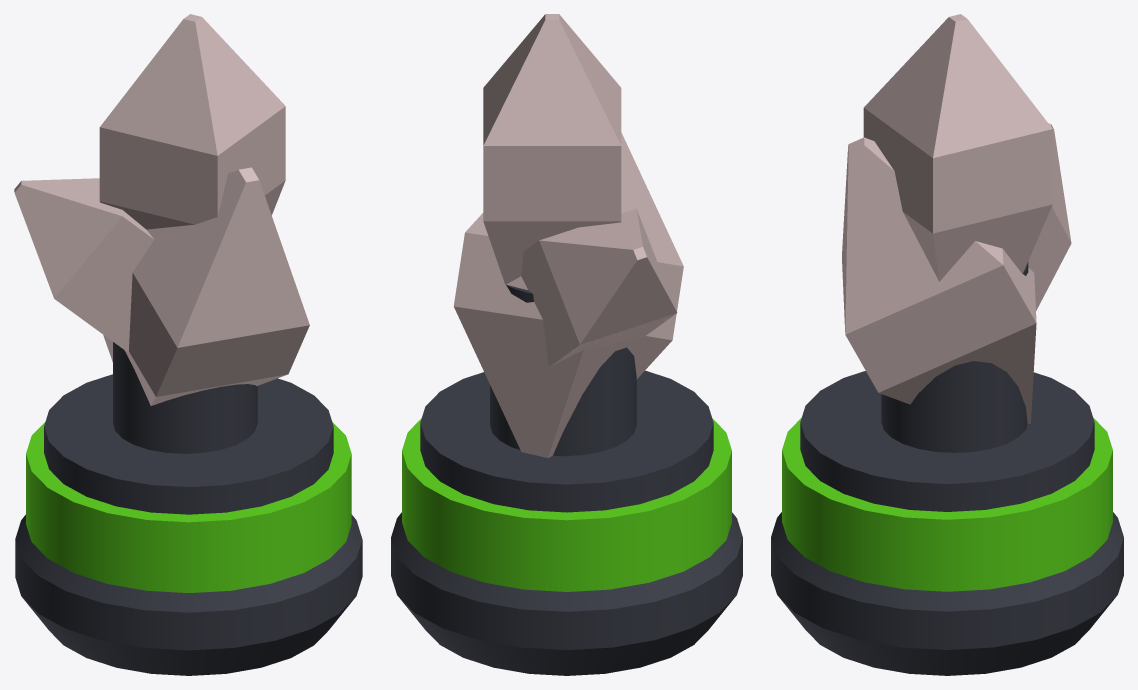
The model's file is tower_quartz.obj.
The picture shows the model from 3 angles, left to right: view 1: azimuth 30°, elevation 25°; view 2: azimuth 150°, elevation 25°; view 3: azimuth 270°, elevation 25°; orthographic projection.
Visible parts, largest first — view 1: mergedBlocks; view 2: mergedBlocks; view 3: mergedBlocks.
Boxes of the visible parts, x1,y1,x2,y2 form: mergedBlocks: [14, 14, 362, 675]; mergedBlocks: [391, 14, 742, 675]; mergedBlocks: [771, 14, 1123, 675].
Size of the model in its own units: 0.96 by 1.8 by 0.96.
